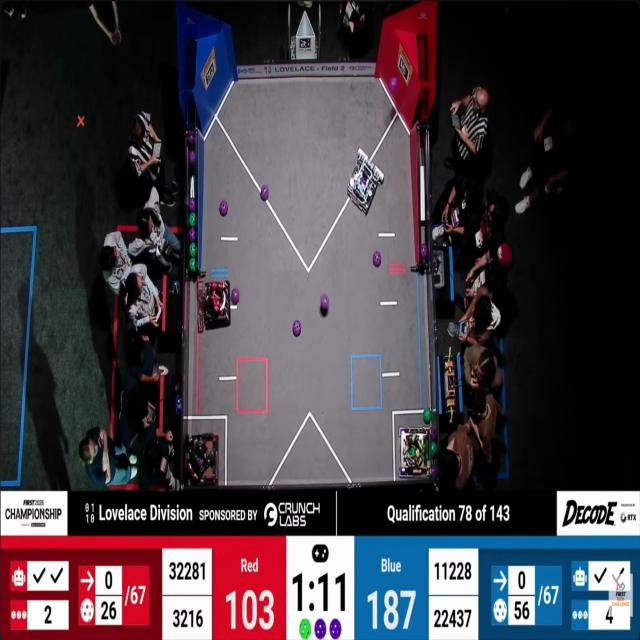artifact_green: (300, 619, 311, 639), (430, 459, 438, 481), (423, 408, 432, 424), (188, 150, 196, 166), (390, 77, 398, 93), (189, 228, 197, 242), (431, 441, 438, 457), (189, 258, 196, 272), (189, 243, 196, 257), (189, 213, 196, 226), (189, 198, 195, 212), (409, 446, 416, 456)
artifact_purple: (315, 619, 326, 639), (330, 619, 341, 639), (111, 30, 121, 46), (321, 293, 329, 311), (187, 131, 195, 148), (293, 320, 301, 337), (373, 251, 381, 267), (261, 185, 269, 201), (220, 201, 228, 216), (231, 289, 239, 304), (188, 150, 195, 167), (421, 244, 428, 260), (390, 77, 397, 92), (432, 462, 438, 479), (189, 228, 196, 242), (189, 198, 195, 212), (361, 177, 366, 184)
